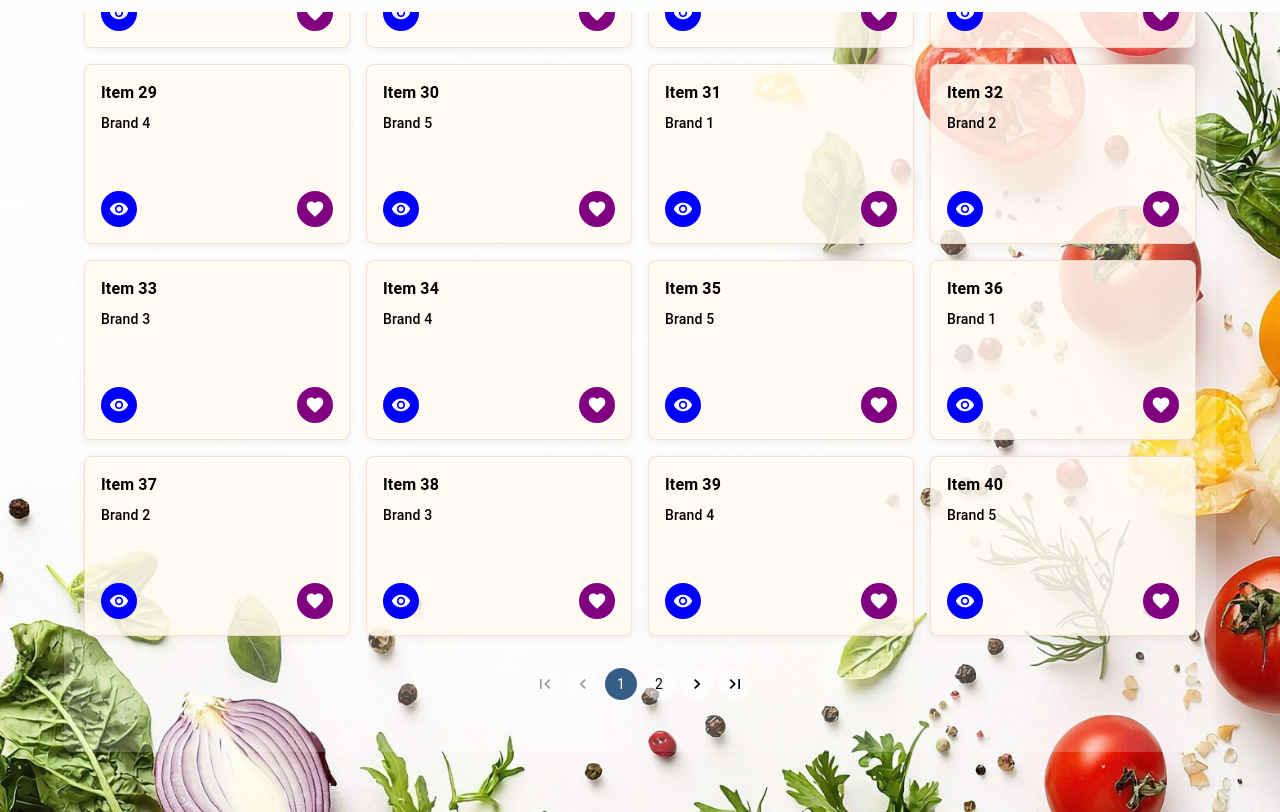
Test: Home Component › Pagination › changes page when pagination button is clicked
(page scrolled)
Click the button "2" at (659, 684), box [643, 668, 675, 700]
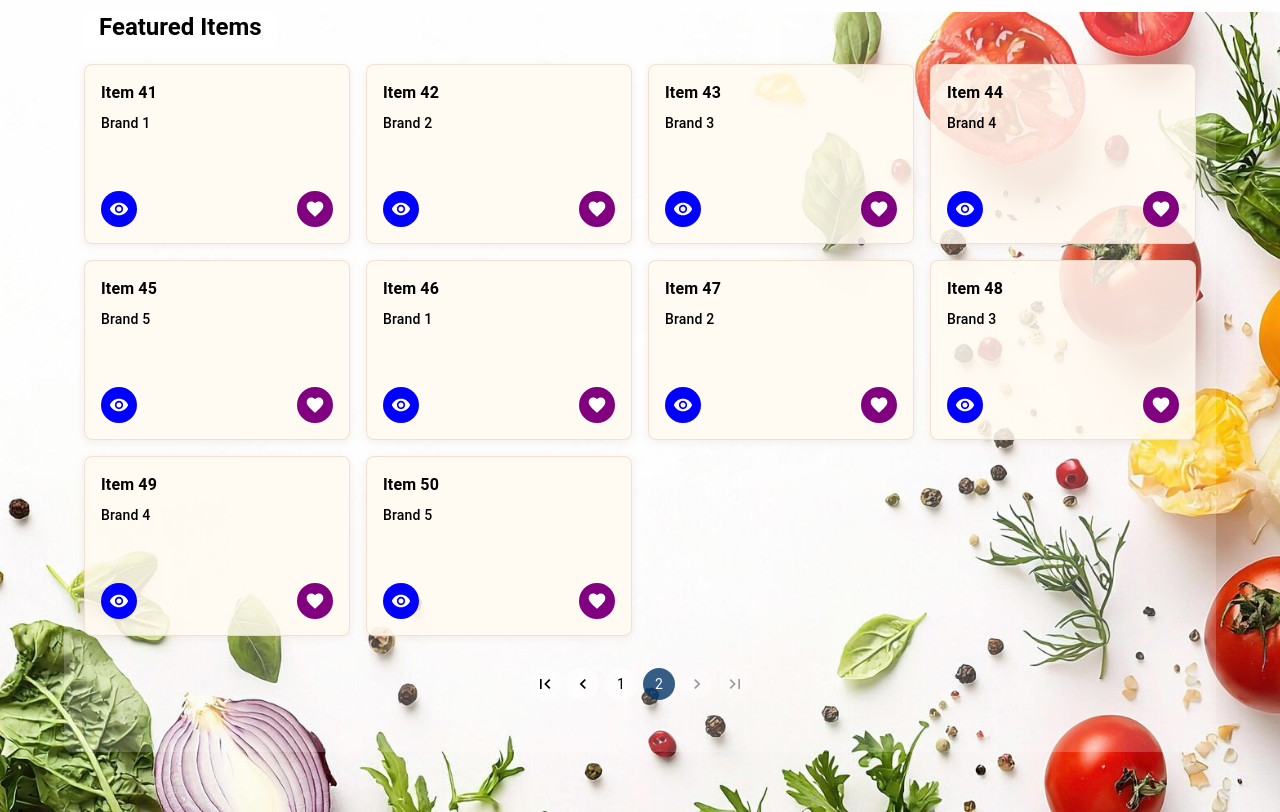
Expected: the text "Item 41" is shown, [101, 83, 157, 102]
